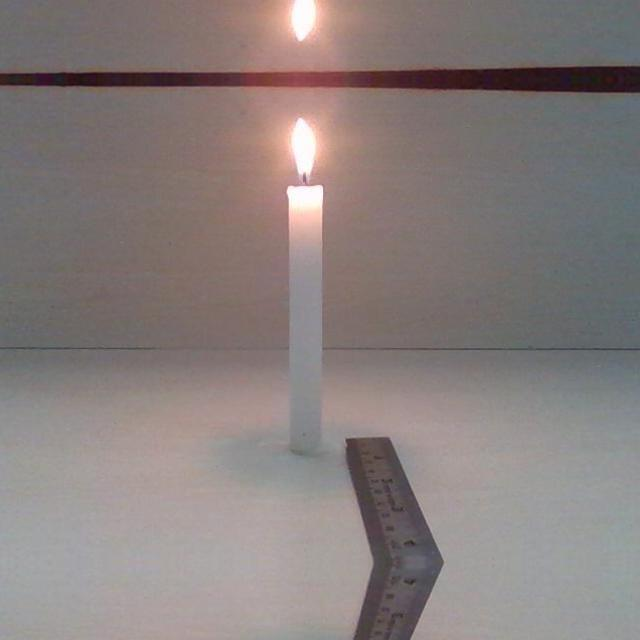smoke: (286, 116, 318, 182), (287, 0, 318, 42)
